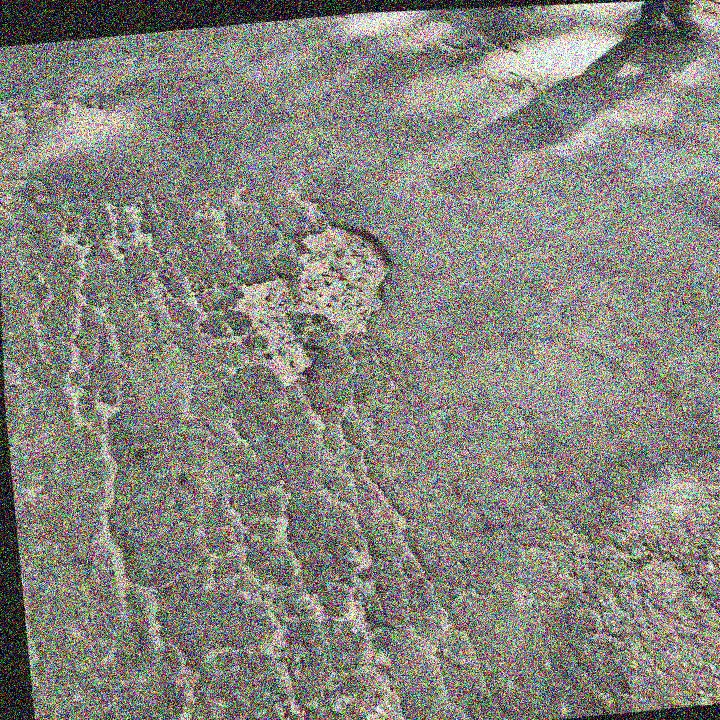pothole: (214, 204, 408, 400)
